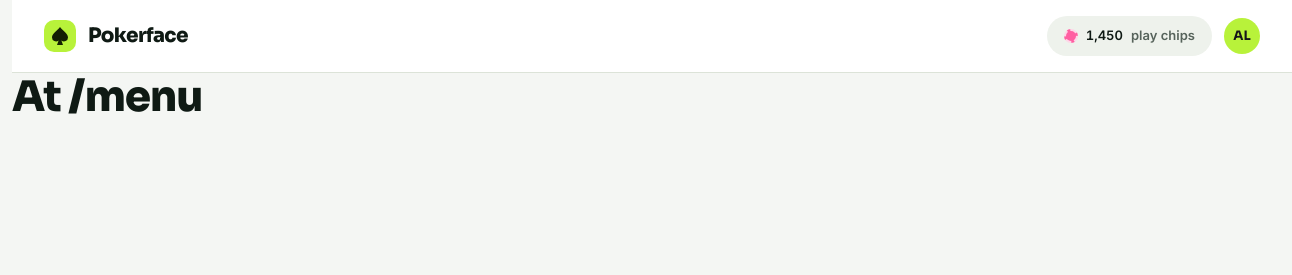
Test case: TopBar menu › opens from the avatar and goes to the profile
What coordinates should you click on to do the following:
click the button with aria-label "Alex: open menu"
I would click on:
 (1242, 36)
Its box is [1224,18,1260,54].
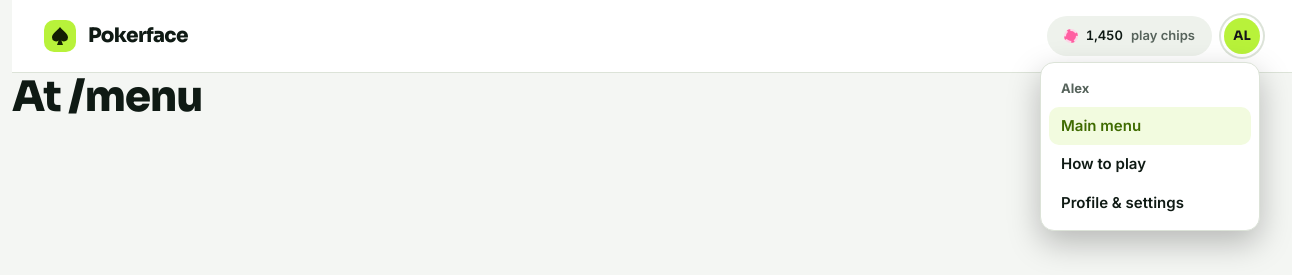
What coordinates should you click on to do the following:
click the link "Profile & settings"
I would click on:
 (1122, 202)
Its box is [1061,192,1184,212].
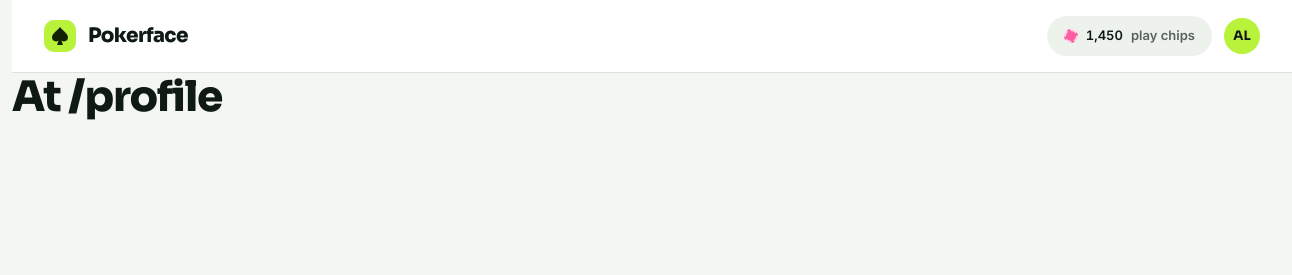
Check: the heading "At /profile" is shown, box [12,70,222,123]
Check: the navigation bar is gone
